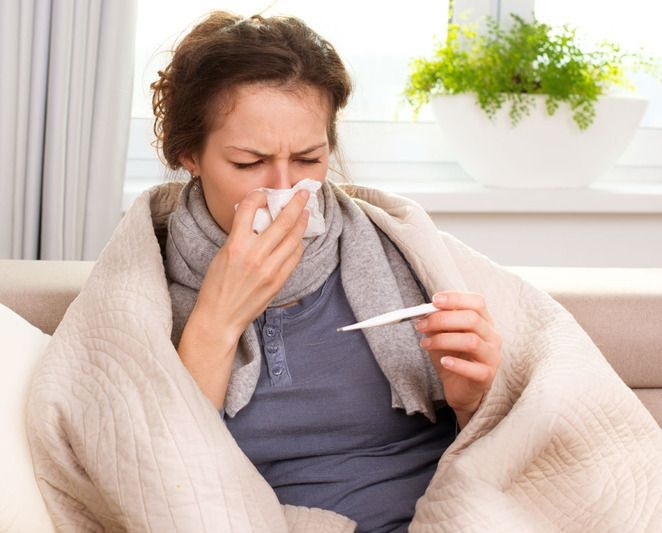face: (206, 83, 333, 241)
